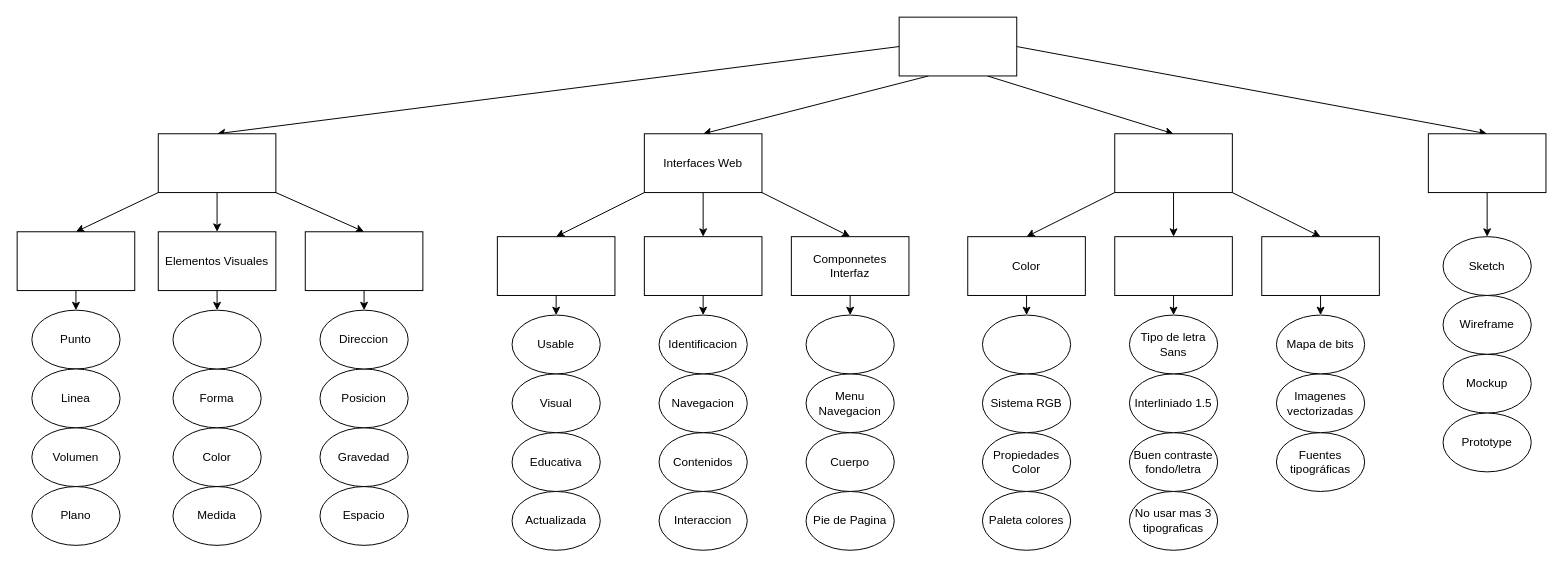
Some shapes in this 1563 by 567 pixel diagram are drawn without their labels. Here are the shapes that lost their labels. From the top down, the centre of each, then its label:
pixel 957 46: Diseño Interfaces
pixel 216 163: Elementos Diseño
pixel 1173 163: Guia de Estilo
pixel 1486 163: Prototipos Web
pixel 75 261: Elementos conceptuales
pixel 363 261: Elementos Relacion
pixel 555 265: Diseño Interfaz
pixel 702 265: Elementos Interfaz
pixel 1173 265: Tipografia
pixel 1320 265: Iconos
pixel 216 339: Textura
pixel 849 344: Cabecera
pixel 1026 344: Psicologia del Color
